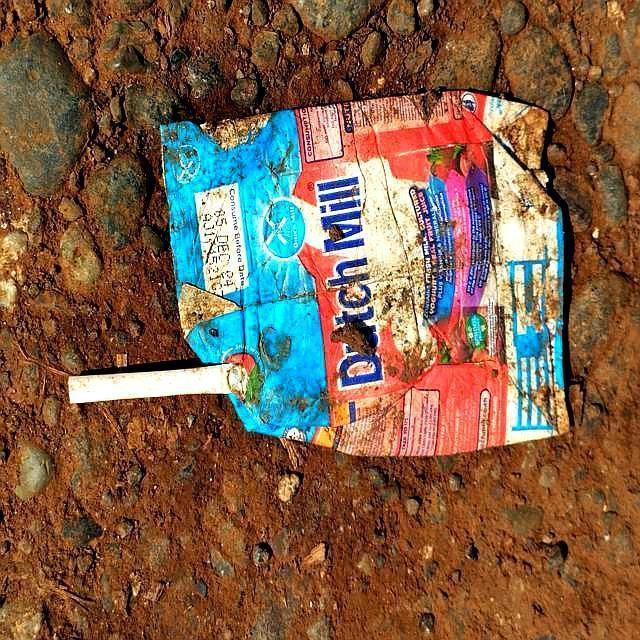Biodegradable: (161, 93, 575, 461)
